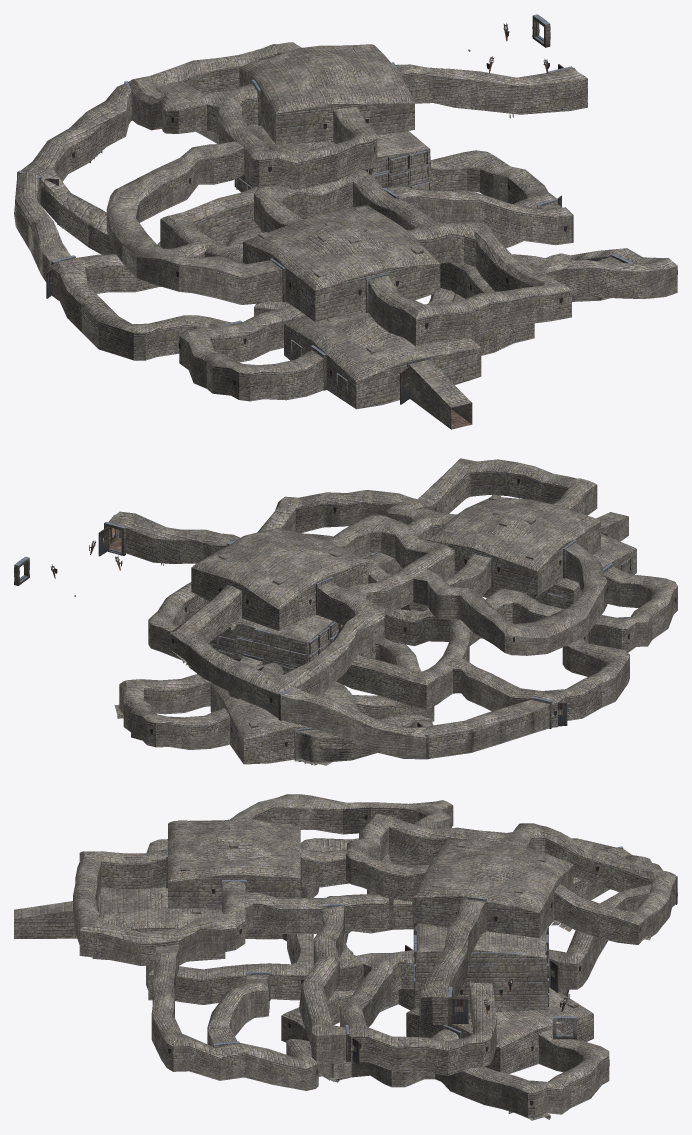
File: catacombs.glb
3 renders of one model, top to bottom at view 1: azimuth 30°, elevation 25°; view 2: azimuth 150°, elevation 25°; view 3: azimuth 270°, elevation 25°, orthographic. The views are drawn at different scales.
Visible parts, largest first — view 1: bw_tavern; view 2: bw_tavern; view 3: bw_tavern.
Boxes of the visible parts, bbox=[...] form: bw_tavern: bbox=[14, 14, 677, 429]; bw_tavern: bbox=[14, 458, 677, 765]; bw_tavern: bbox=[14, 794, 677, 1120].
Bounding box in the file's own units: 59.35 × 21.55 × 66.1.
Materials: 18 (17 with a texture image).
